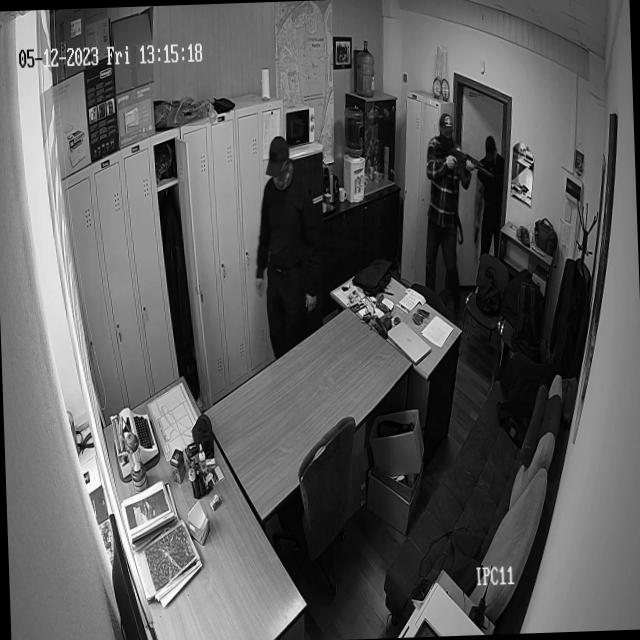gun: (430, 137, 493, 184), (474, 220, 482, 258)
person: (251, 138, 318, 360)
person with a gun: (416, 117, 496, 294), (470, 128, 507, 272)
